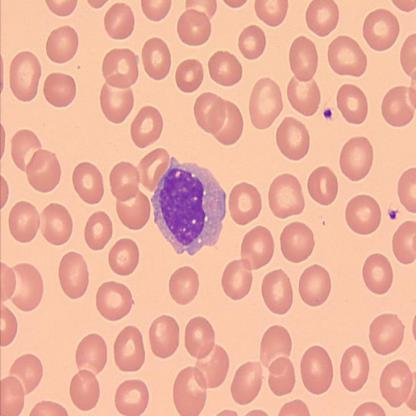Monocyte: (149, 155, 228, 257)
